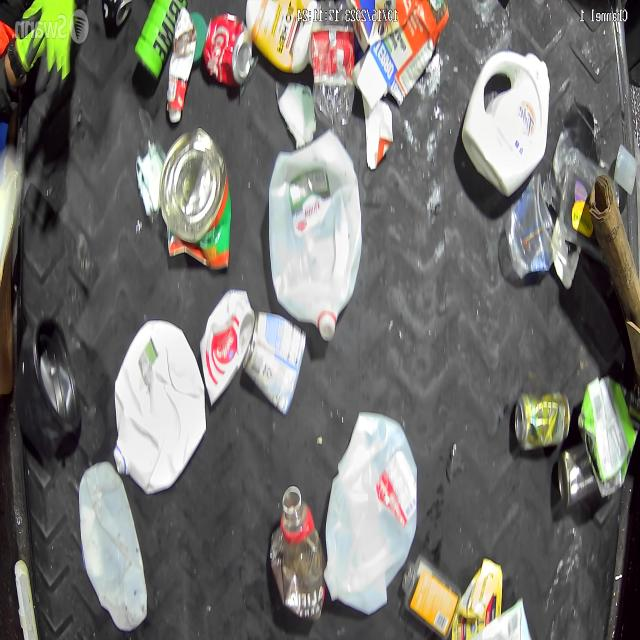can: (159, 125, 232, 271), (240, 308, 306, 416), (202, 8, 252, 89), (515, 382, 570, 452), (556, 443, 598, 507)
milk_jug: (322, 410, 418, 600), (270, 132, 358, 334), (113, 320, 206, 490), (78, 459, 148, 631)
plastic_bottle: (312, 0, 356, 125)
